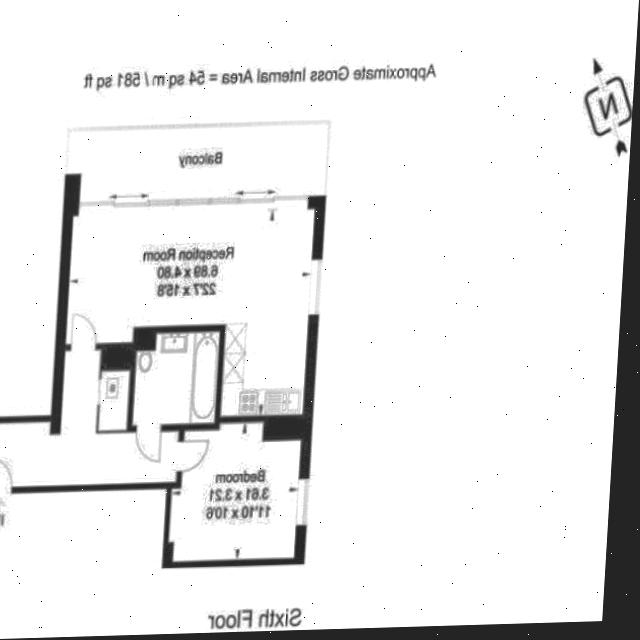room: (62, 196, 314, 420), (0, 348, 181, 487), (65, 121, 332, 206), (167, 414, 301, 569), (133, 327, 219, 429), (99, 369, 129, 432)
